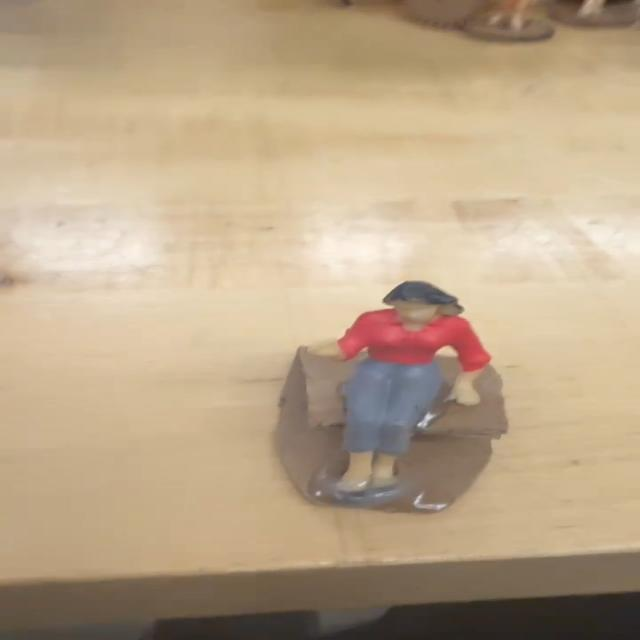Authorized: (293, 268, 516, 524)
